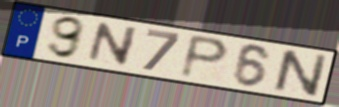6: (230, 44, 276, 89)
7: (139, 27, 184, 74)
9: (44, 15, 88, 60)
N: (271, 48, 331, 99), (84, 21, 141, 69)
P: (177, 32, 232, 81)
